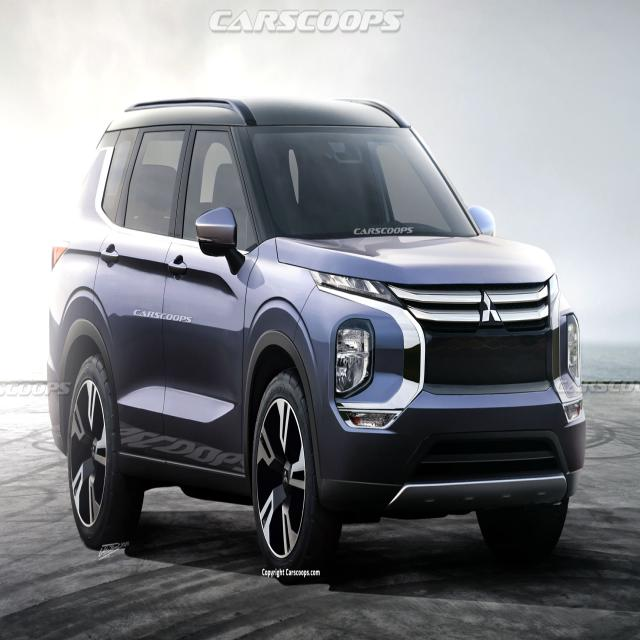light_vehicle: (47, 93, 584, 582)
